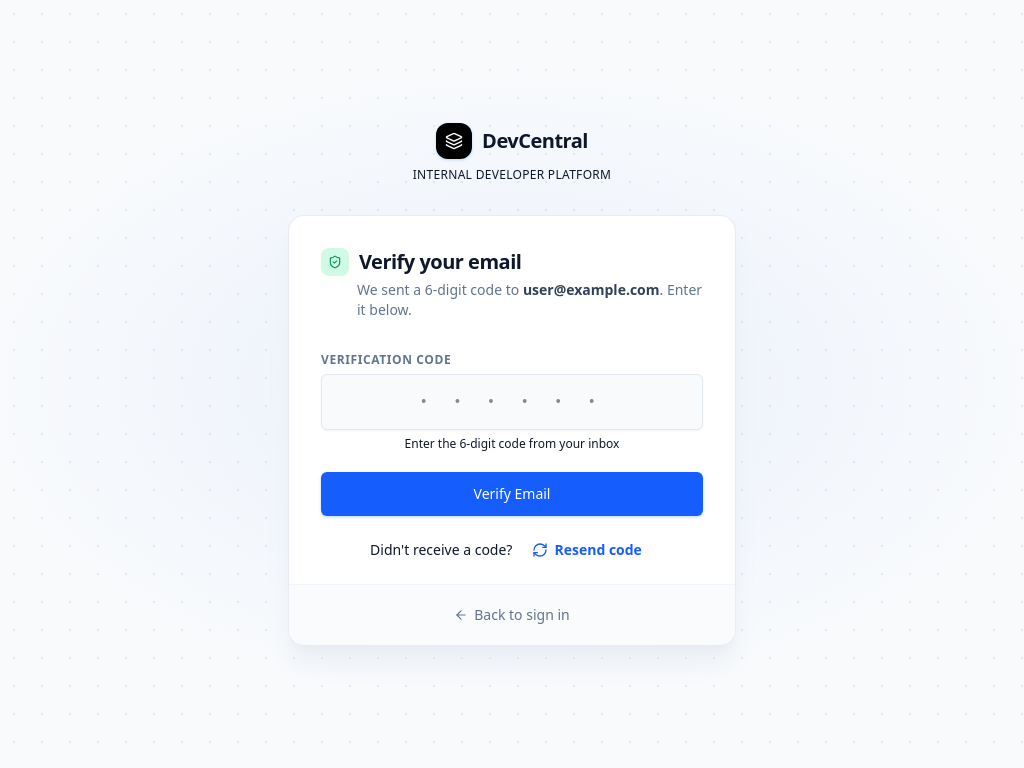
Scenario: VerifyEmailPage › shows the success banner and stores the token on a valid verification
This screenshot has width=1024, height=768.
Type "654321" into the field labelled "Verification Code".
click(512, 402); type("654321")  # box [321,374,703,430]
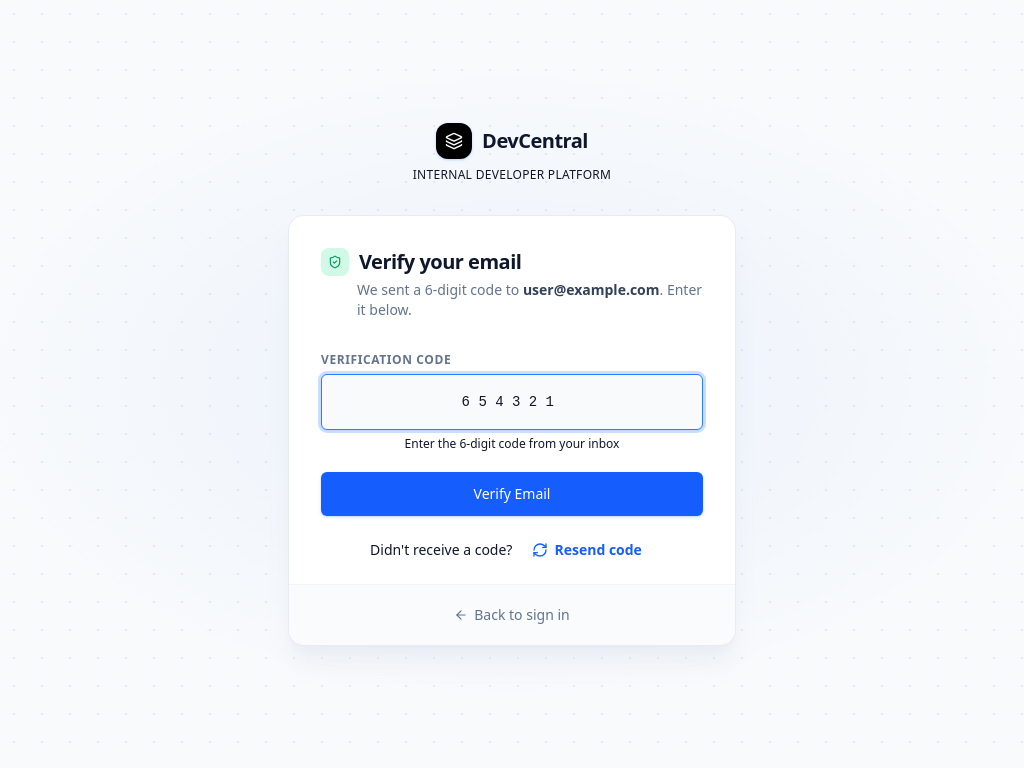
Click the button "Verify Email".
click(512, 494)  # box [321,472,703,516]
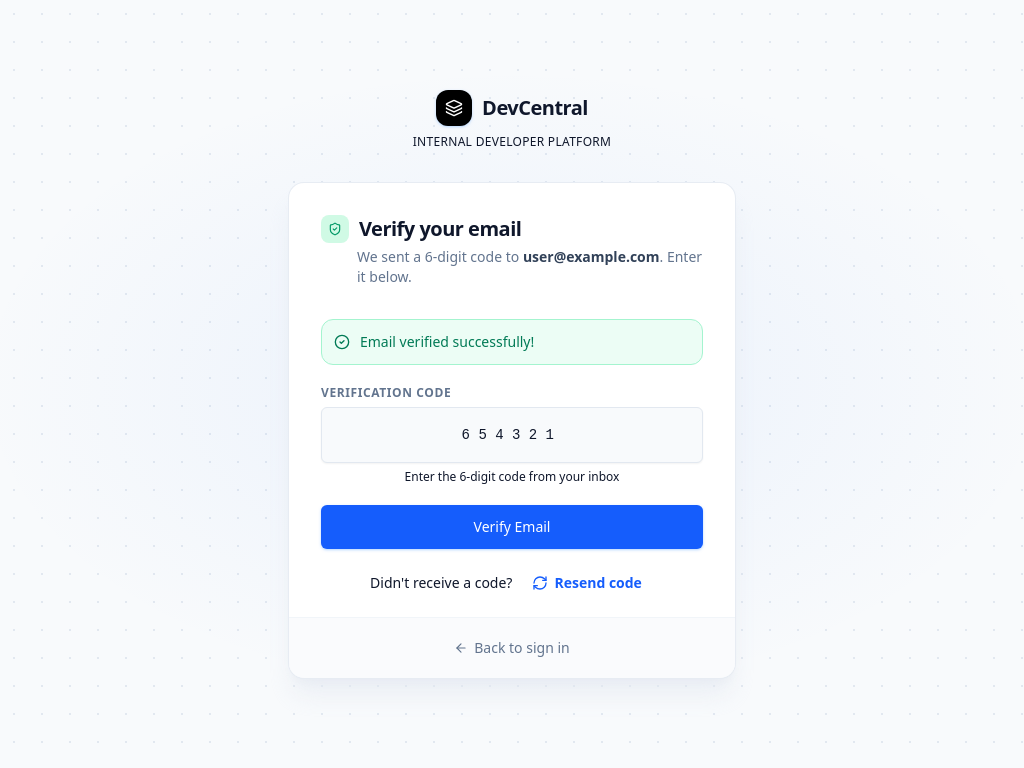
Expected: the text "Email verified successfully!" is shown, [360,332,534,352]
